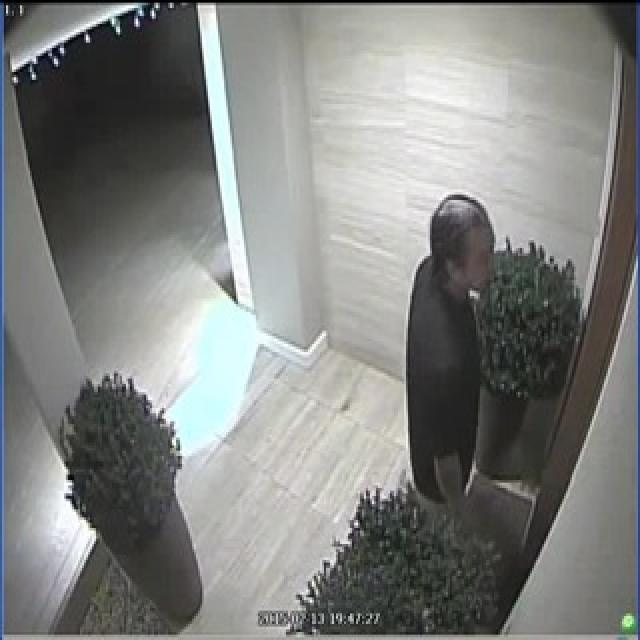thief: (393, 182, 501, 502)
